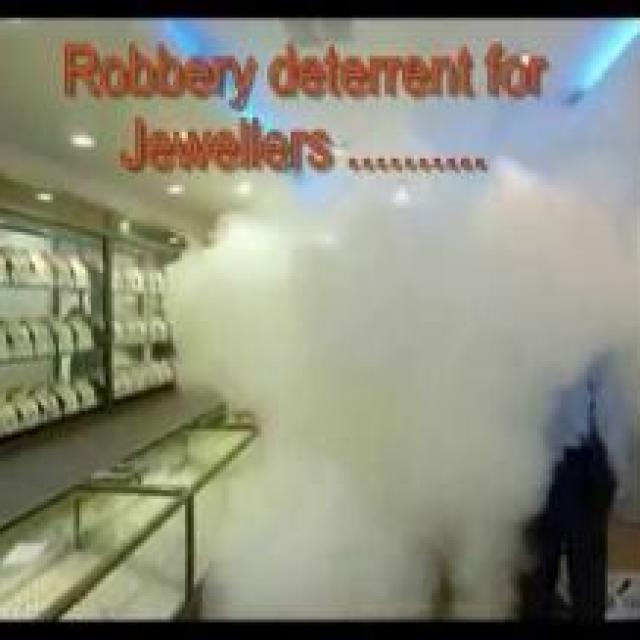fire: (167, 169, 634, 618)
